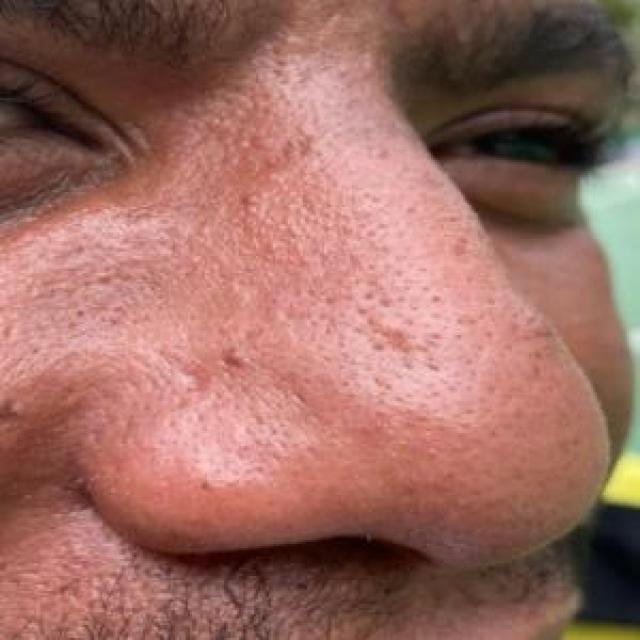Oily-Skin: (255, 34, 513, 471), (0, 210, 232, 441)
